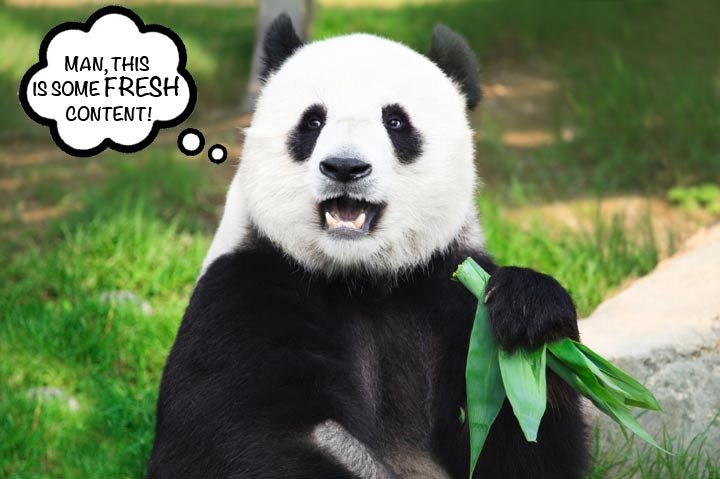panda: (193, 9, 618, 479)
